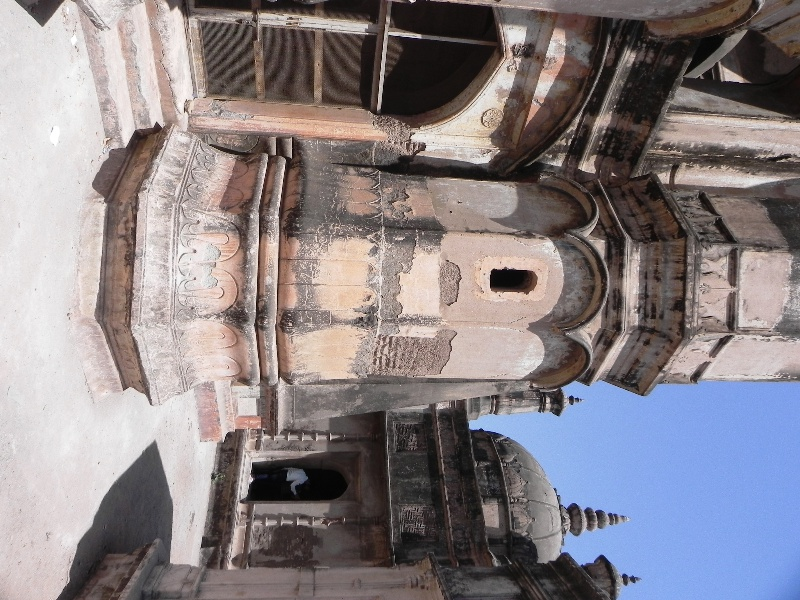Exposed Bricks: (370, 335, 403, 373)
Spalling: (379, 233, 417, 324), (373, 109, 428, 156), (379, 169, 421, 221), (437, 256, 463, 309)
